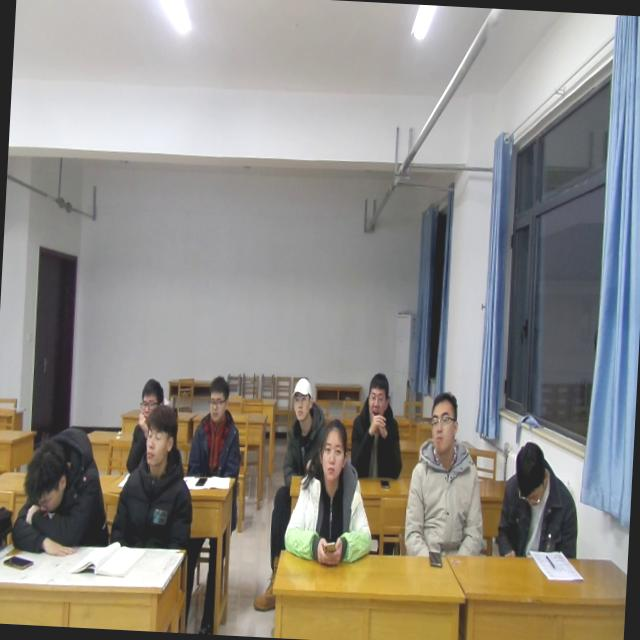bow: (10, 419, 116, 558)
down: (512, 436, 552, 506)
lookup: (141, 399, 181, 469), (425, 388, 461, 457), (314, 418, 349, 487), (203, 372, 234, 427), (364, 367, 391, 420), (287, 375, 316, 424), (135, 374, 165, 420)
sit: (281, 415, 379, 568), (403, 389, 491, 557), (111, 401, 200, 558), (496, 441, 585, 561), (348, 372, 410, 482), (184, 374, 247, 480), (278, 372, 332, 478), (125, 376, 166, 472)
